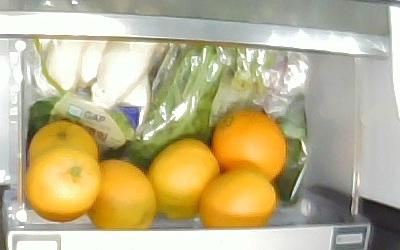orange: (147, 139, 222, 220), (27, 147, 101, 222), (210, 110, 286, 182), (86, 159, 155, 227), (198, 169, 276, 227), (27, 120, 99, 167)
